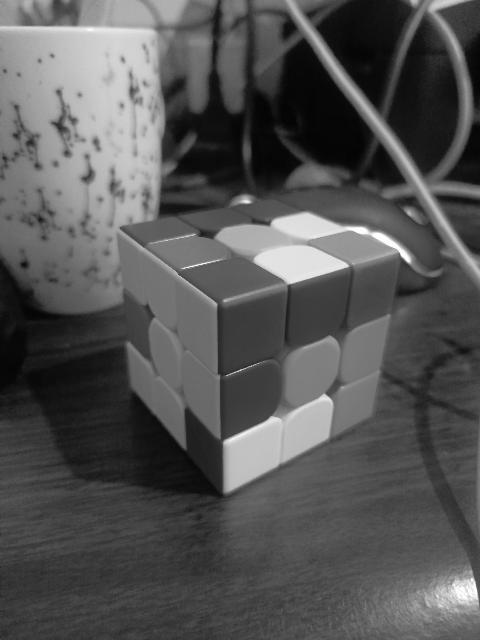rubik: (116, 197, 402, 496)
